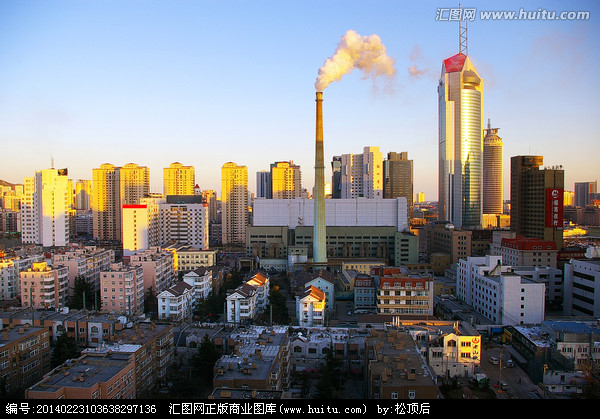dust: (309, 28, 397, 102)
